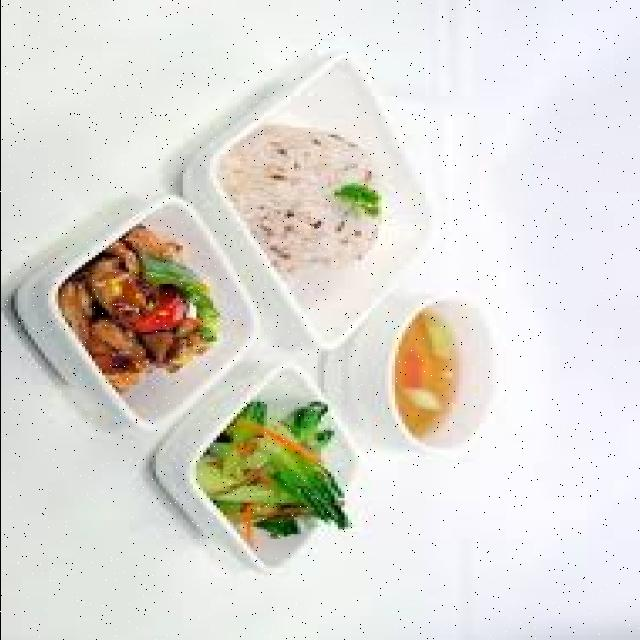Chicken: (61, 224, 216, 390)
Green veg: (199, 402, 350, 537)
Rice: (222, 125, 381, 282)
